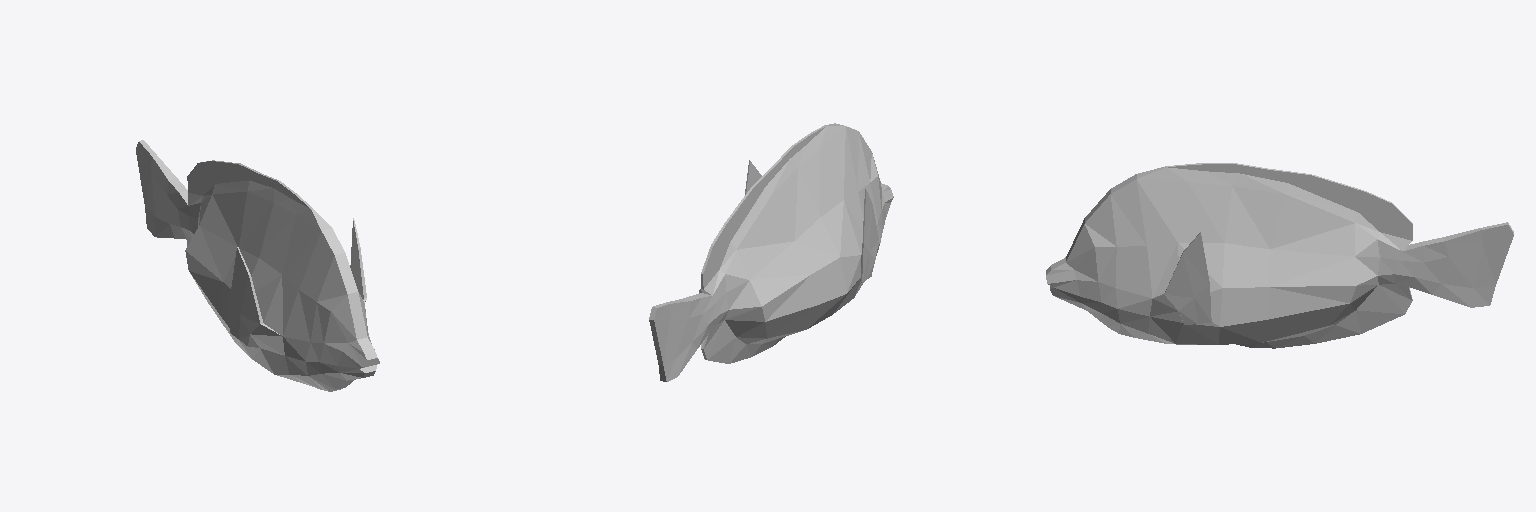
File: TropicalFish10.obj
3 views of the same model, side by side, from view 1: azimuth 30°, elevation 25°; view 2: azimuth 150°, elevation 25°; view 3: azimuth 270°, elevation 25° (orthographic).
Visible parts, largest first — view 1: TropicalFish10; view 2: TropicalFish10; view 3: TropicalFish10.
Boxes of the visible parts, x1=… form: TropicalFish10: x1=136, y1=140, x2=379, y2=391; TropicalFish10: x1=649, y1=123, x2=893, y2=381; TropicalFish10: x1=1046, y1=163, x2=1513, y2=348.
Size of the model in its own units: 135 by 196 by 450.